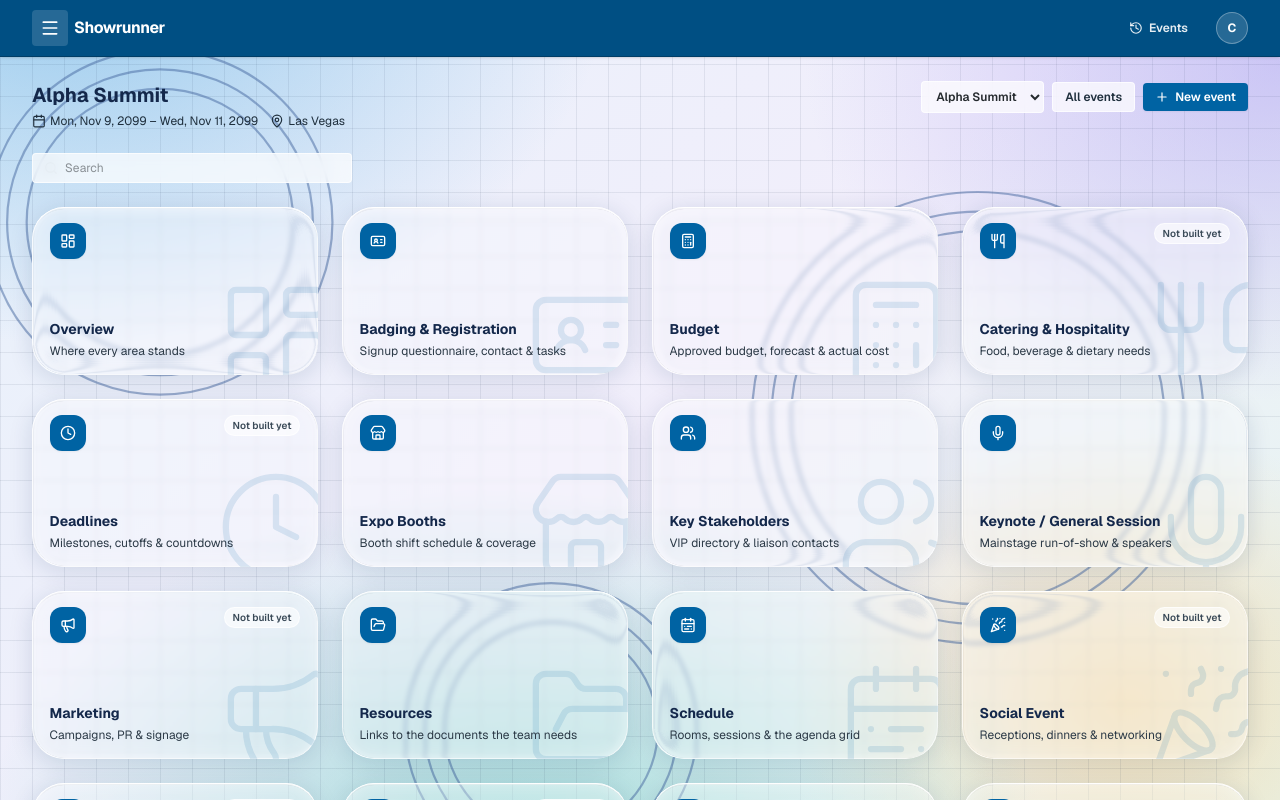
Test case: the header › the profile menu no longer holds User manager, only signing out
Expected: the heading "Alpha Summit" is shown, [32, 82, 168, 108]
Click the button named "Account menu". click: x=1232, y=28
box: [1216, 12, 1248, 44]
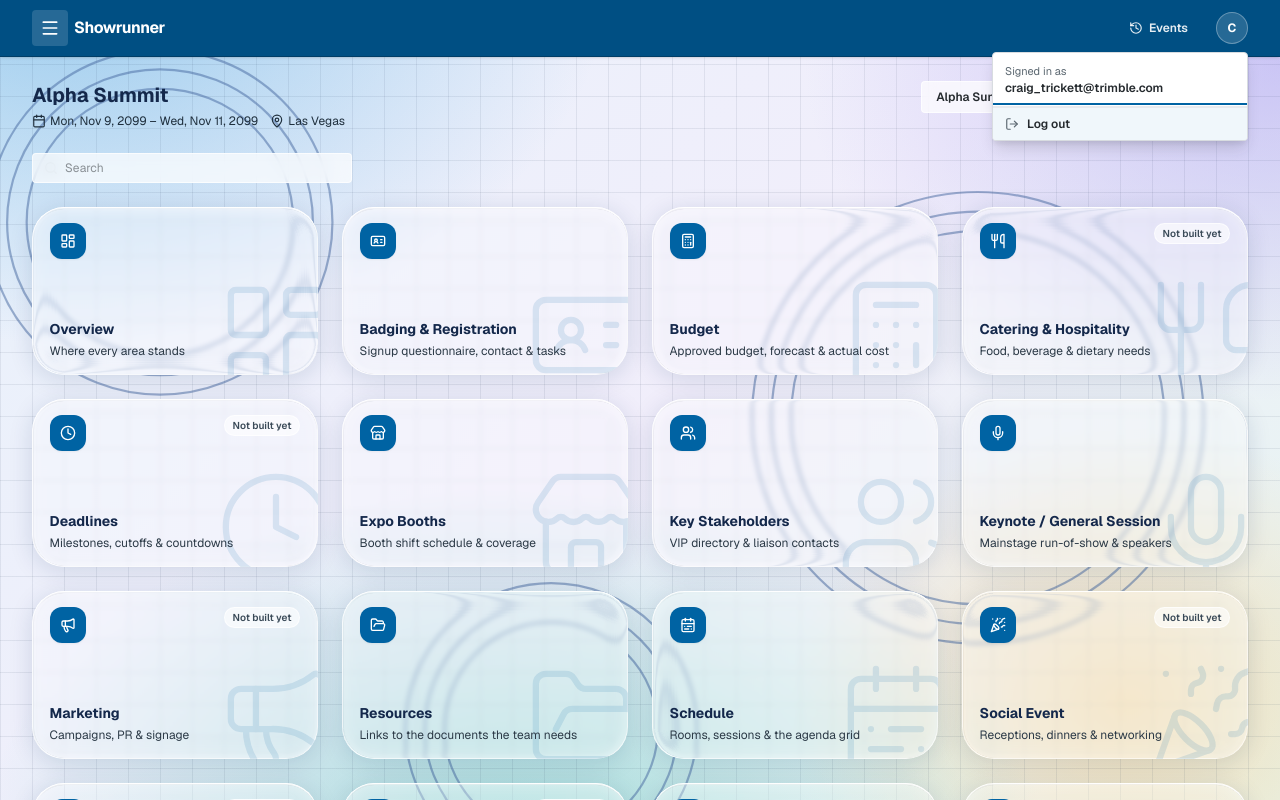
Result: the menu items read "Log out", in this order at [993, 106, 1247, 140]
